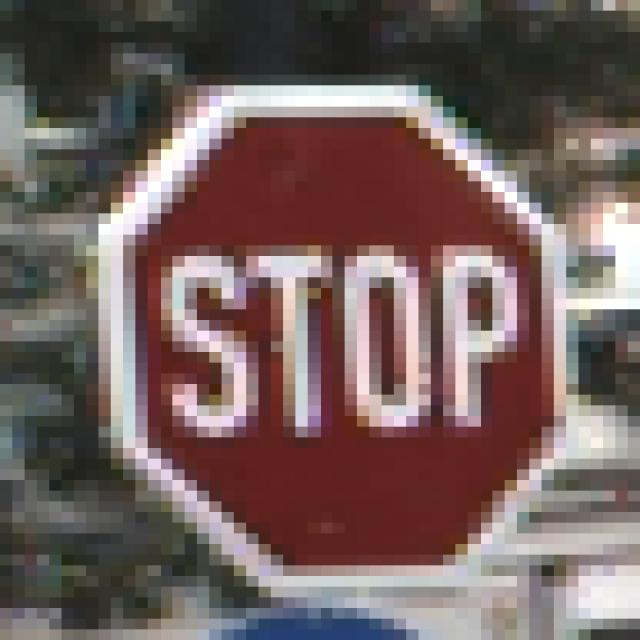STOP: (75, 65, 579, 588)
